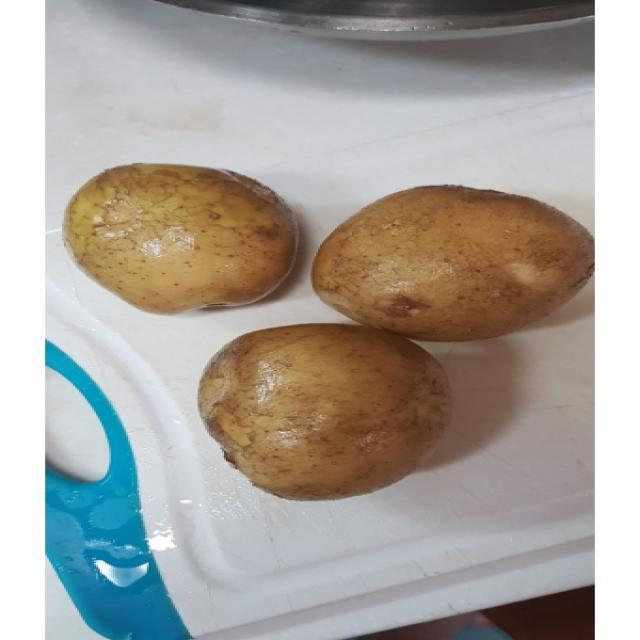potato: (192, 317, 459, 503), (300, 178, 599, 342), (69, 161, 312, 315)
